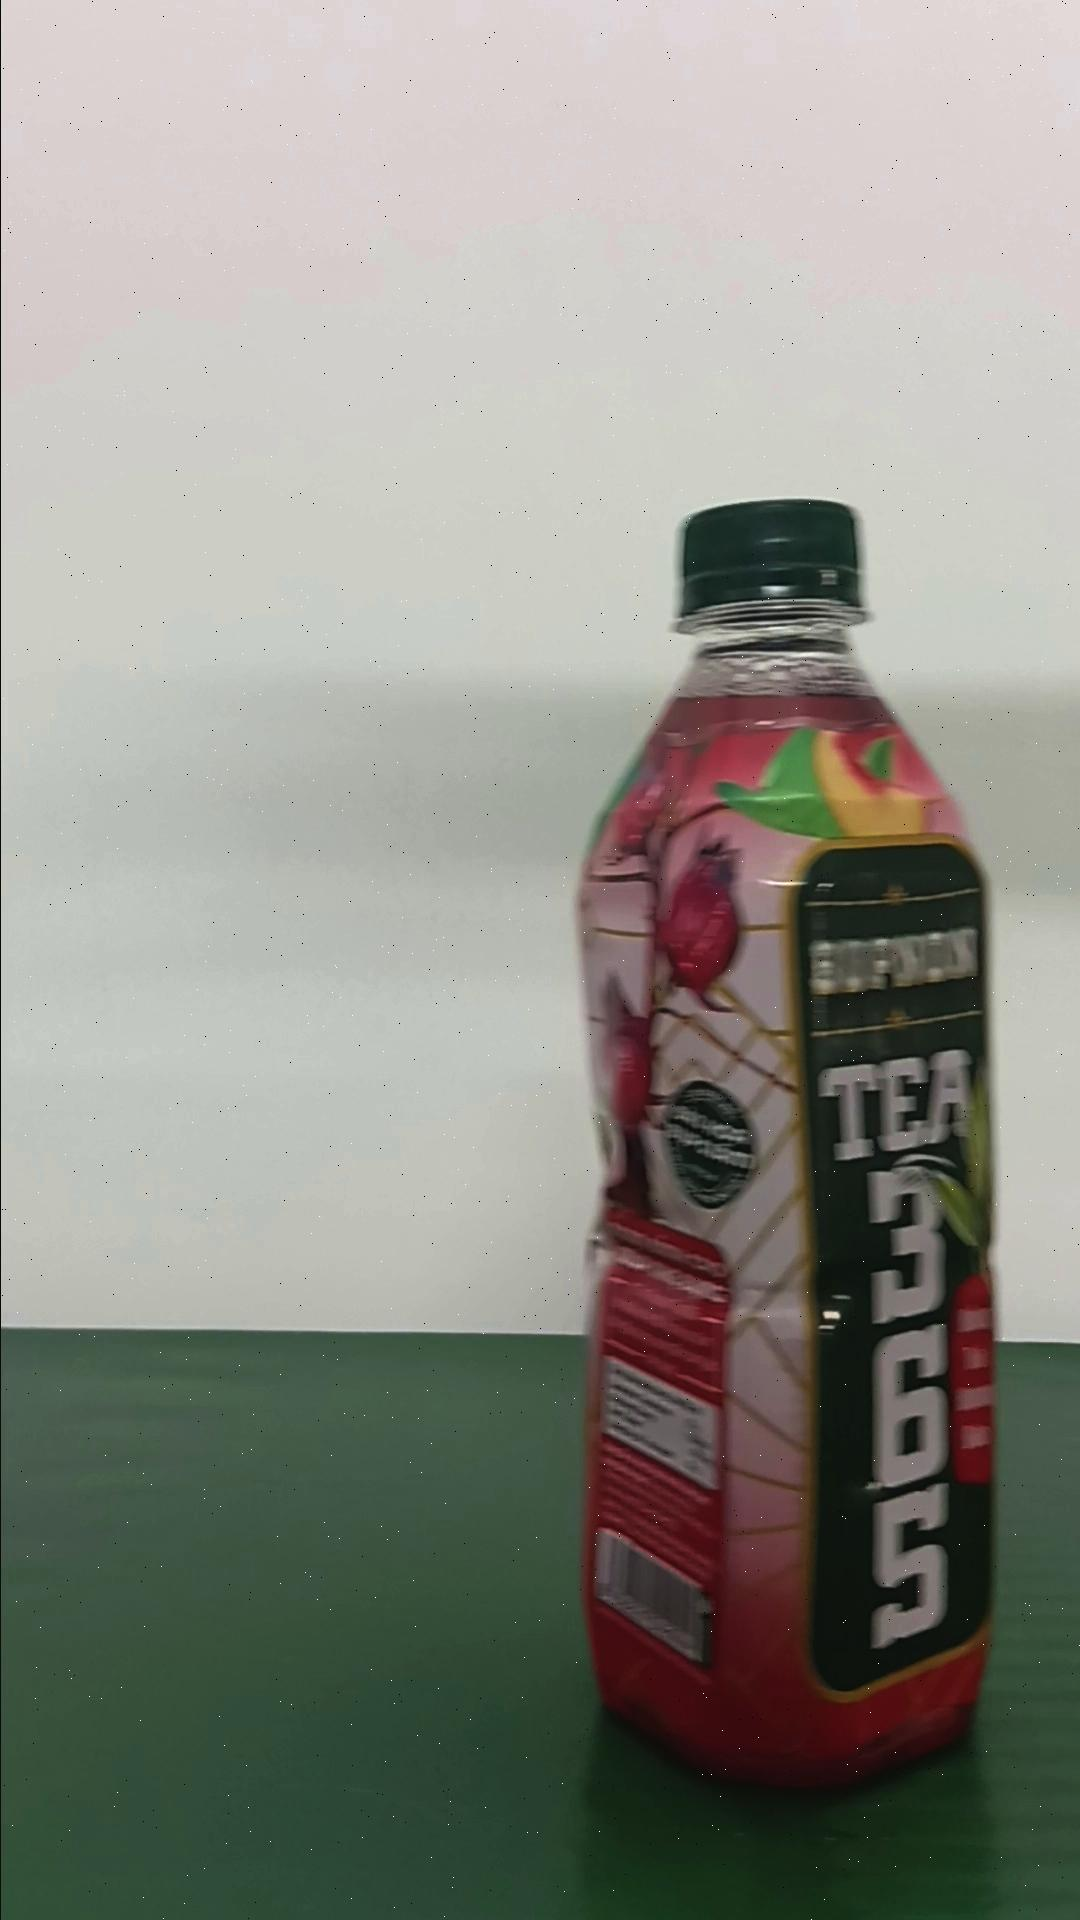loi meo sp: (571, 495, 1001, 1789)
